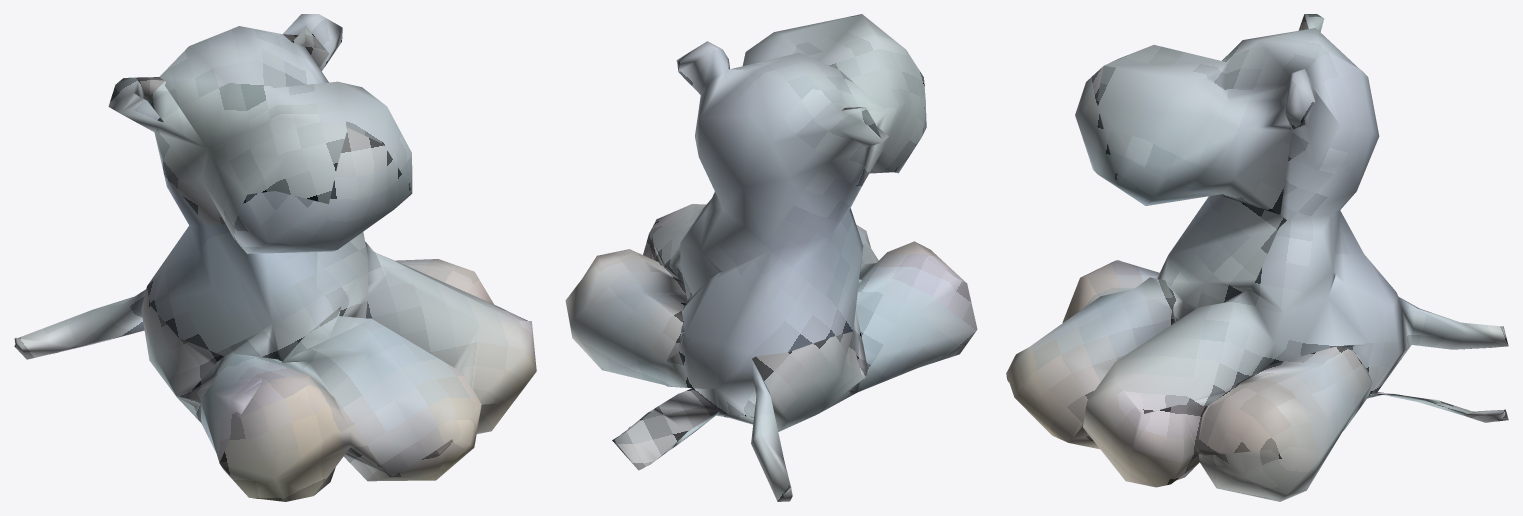
Rendered from Ortho_Forward_Facing_3Q6J2oKJD92-low.glb.
3 renders of one model, left to right at view 1: azimuth 30°, elevation 25°; view 2: azimuth 150°, elevation 25°; view 3: azimuth 270°, elevation 25°, orthographic. The views are drawn at different scales.
Visible parts, largest first — view 1: Ortho_Forward_Facing_3Q6J2oKJD92; view 2: Ortho_Forward_Facing_3Q6J2oKJD92; view 3: Ortho_Forward_Facing_3Q6J2oKJD92.
Boxes of the visible parts, x1,y1,x2,y2 form: Ortho_Forward_Facing_3Q6J2oKJD92: (14,14,536,501); Ortho_Forward_Facing_3Q6J2oKJD92: (565,14,977,501); Ortho_Forward_Facing_3Q6J2oKJD92: (1006,14,1508,501).
Size of the model in its own units: 0.1937 by 0.1951 by 0.2424.
Materials: 1 (1 with a texture image).
